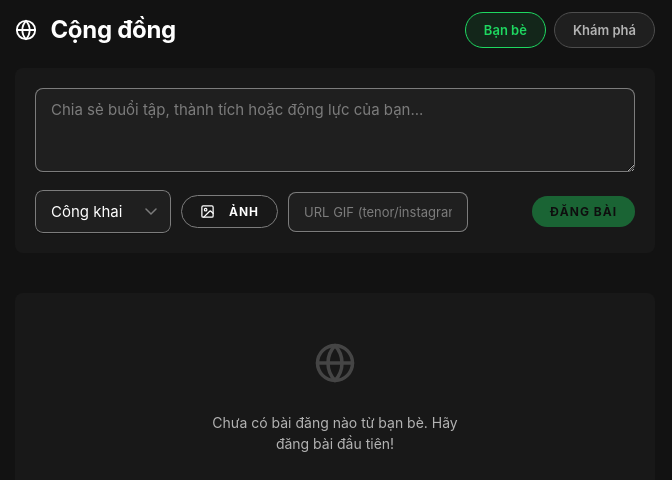
Scenario: CommunityFeedPage — đăng bài › gõ text + bấm Đăng bài → gọi createPost và hiển thị bài mới
The width and height of the screenshot is (672, 480).
In the text box with placeholder "Chia sẻ buổi tập, thành tích hoặc động lực của bạn...": [335, 130] box top-left (35, 88), bottom-right (635, 172), type "Bài đầu tiên của tôi"
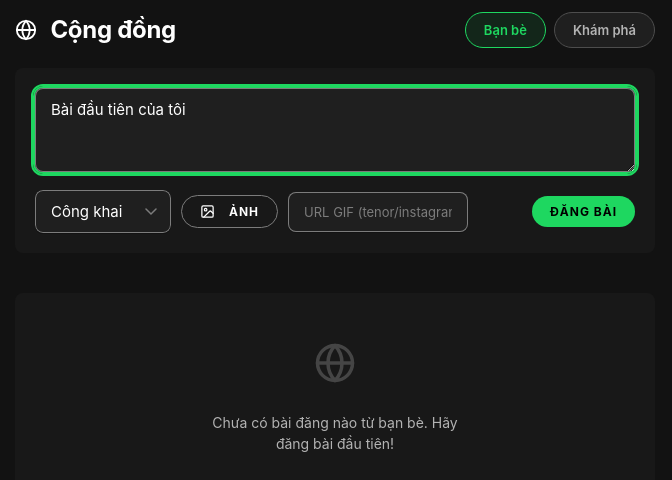
Expected: the button "Đăng bài" is enabled
Click the button "Đăng bài": [583, 212] box top-left (532, 196), bottom-right (635, 227)
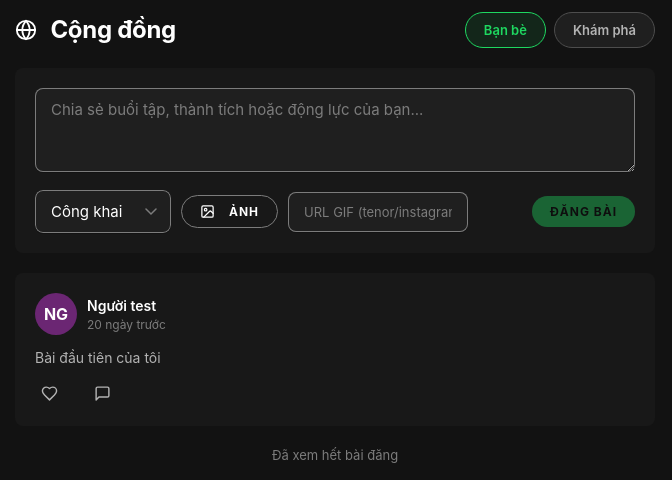
Expected: the text "Bài đầu tiên của tôi" is shown, top-left (35, 349), bottom-right (161, 366)
Expected: the text box with placeholder "Chia sẻ buổi tập, thành tích hoặc động lực của bạn..." is empty, top-left (35, 88), bottom-right (635, 172)
